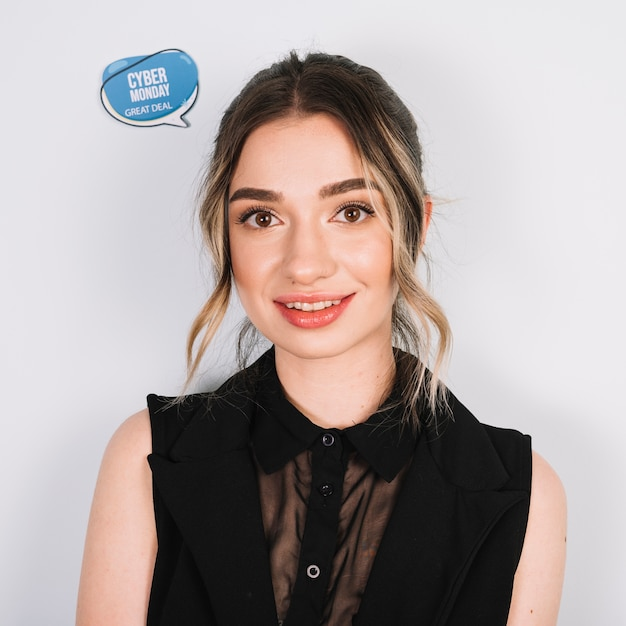teen: (186, 29, 448, 394)
